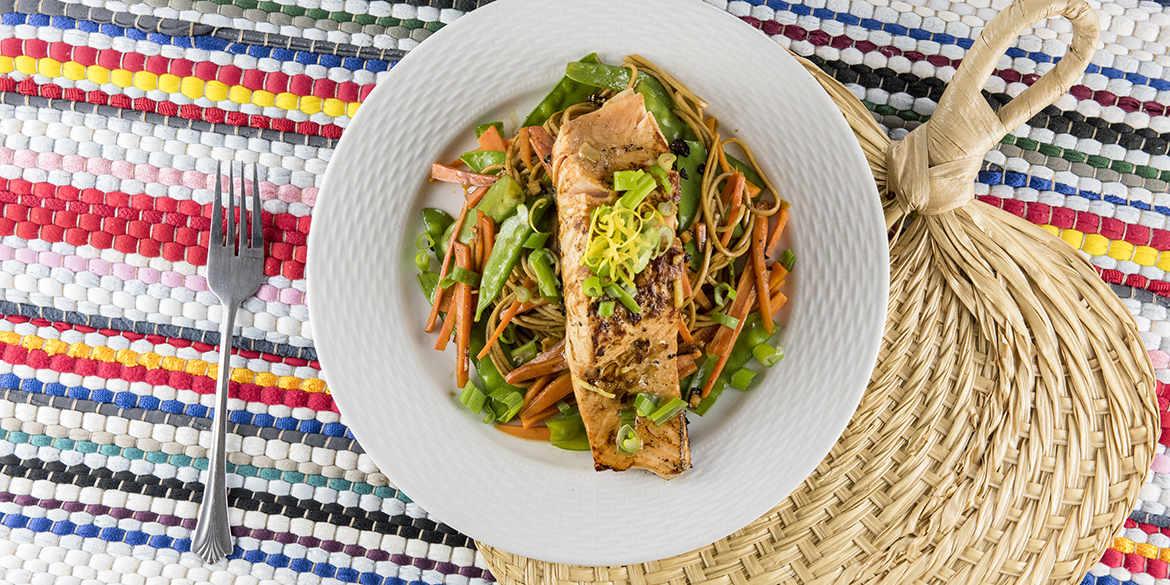Soba: (676, 87, 795, 347)
